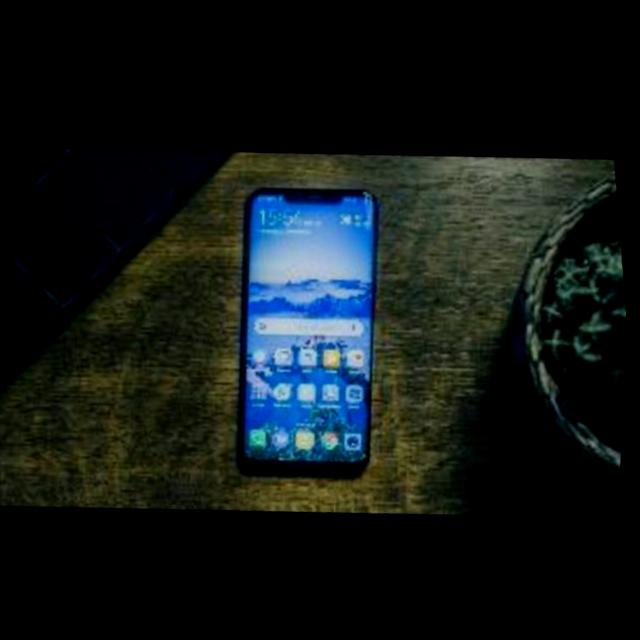Smartphone: (242, 187, 379, 473)
